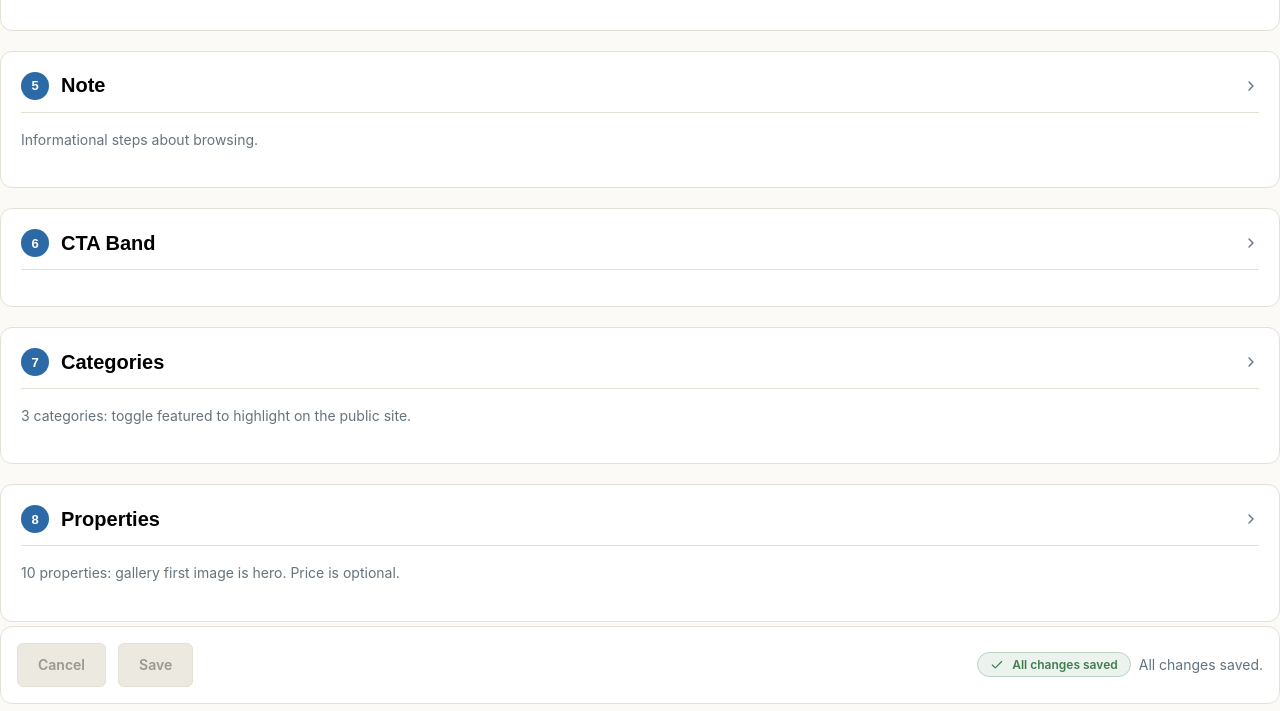
Test case: CmsPropertiesPage — Phase 3 Properties CMS › renders categories and properties in their sections
(page scrolled)
Check: the heading "Categories" is shown, box x1=61 y1=351 x2=164 y2=374
Click the button "7 Categories".
click(113, 362)  # box x1=21 y1=348 x2=1259 y2=389
(page scrolled)
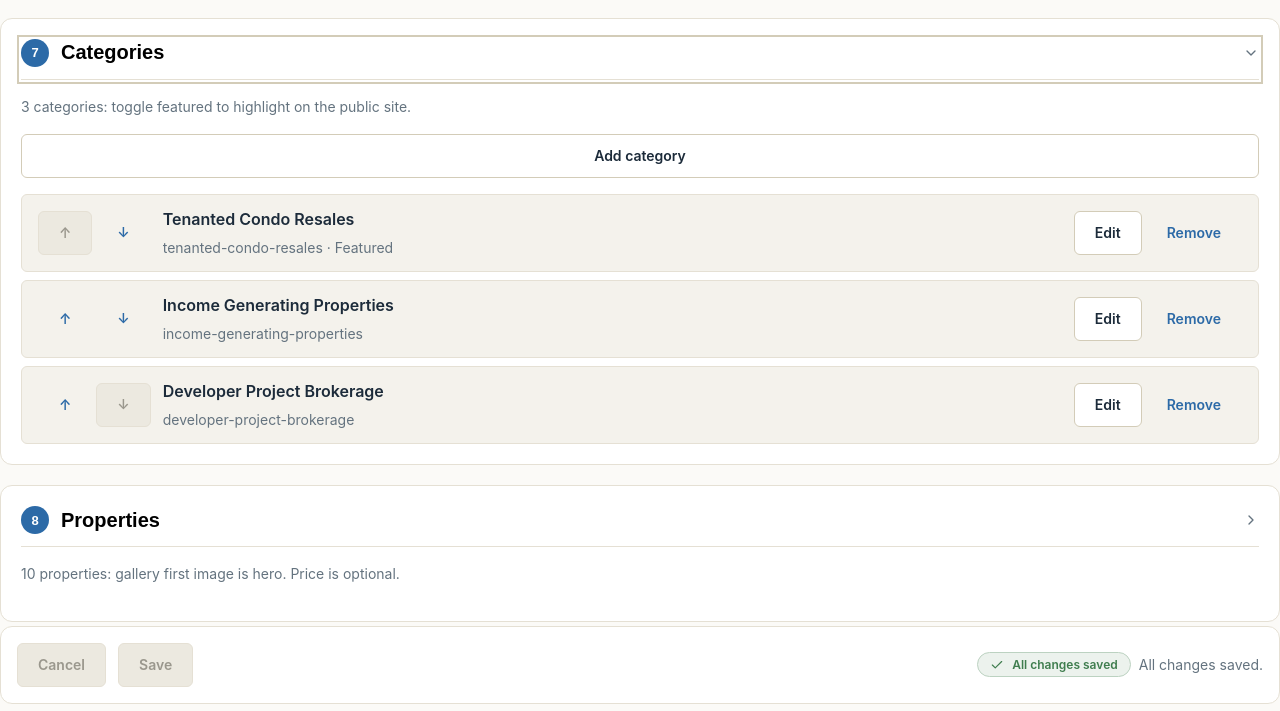
Check: the text "Tenanted Condo Resales" is shown, box x1=163 y1=209 x2=354 y2=229
Check: the text "tenanted-condo-resales · Featured" is shown, box x1=163 y1=239 x2=393 y2=256
Click the button "8 Properties".
click(110, 520)  # box x1=21 y1=506 x2=1259 y2=547
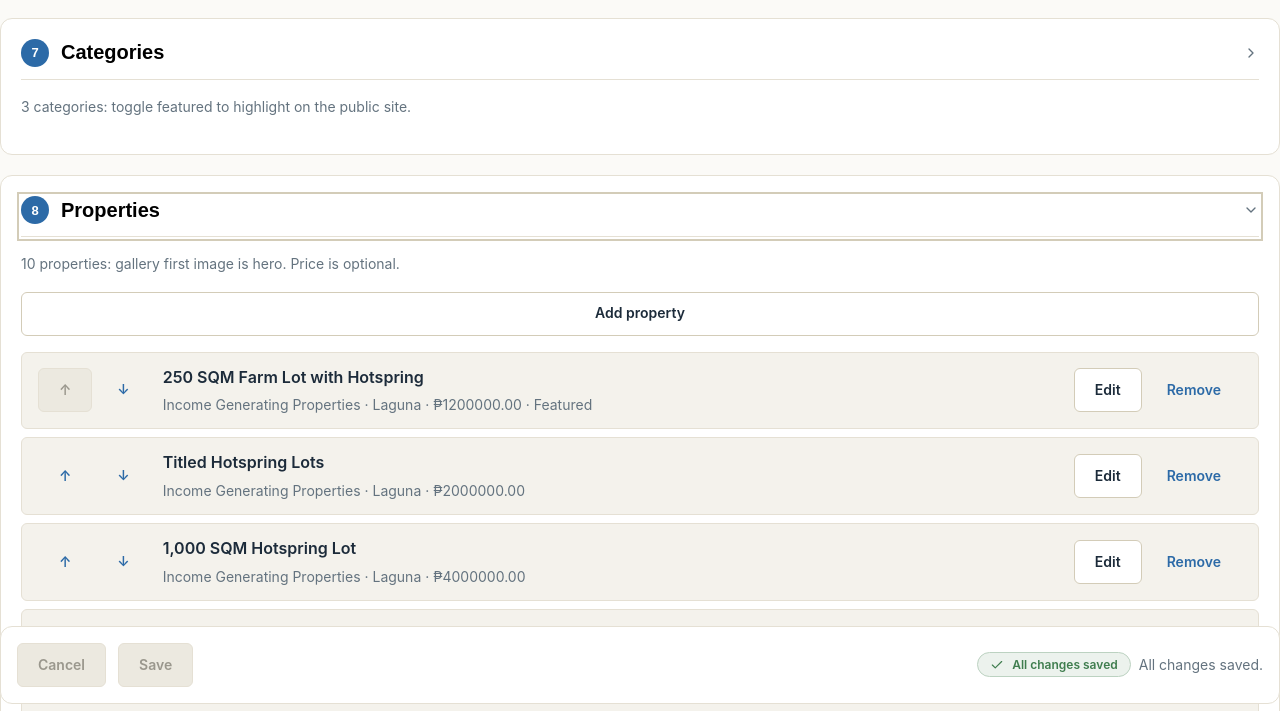
Check: the text "250 SQM Farm Lot with Hotspring" is shown, box x1=163 y1=366 x2=424 y2=386
